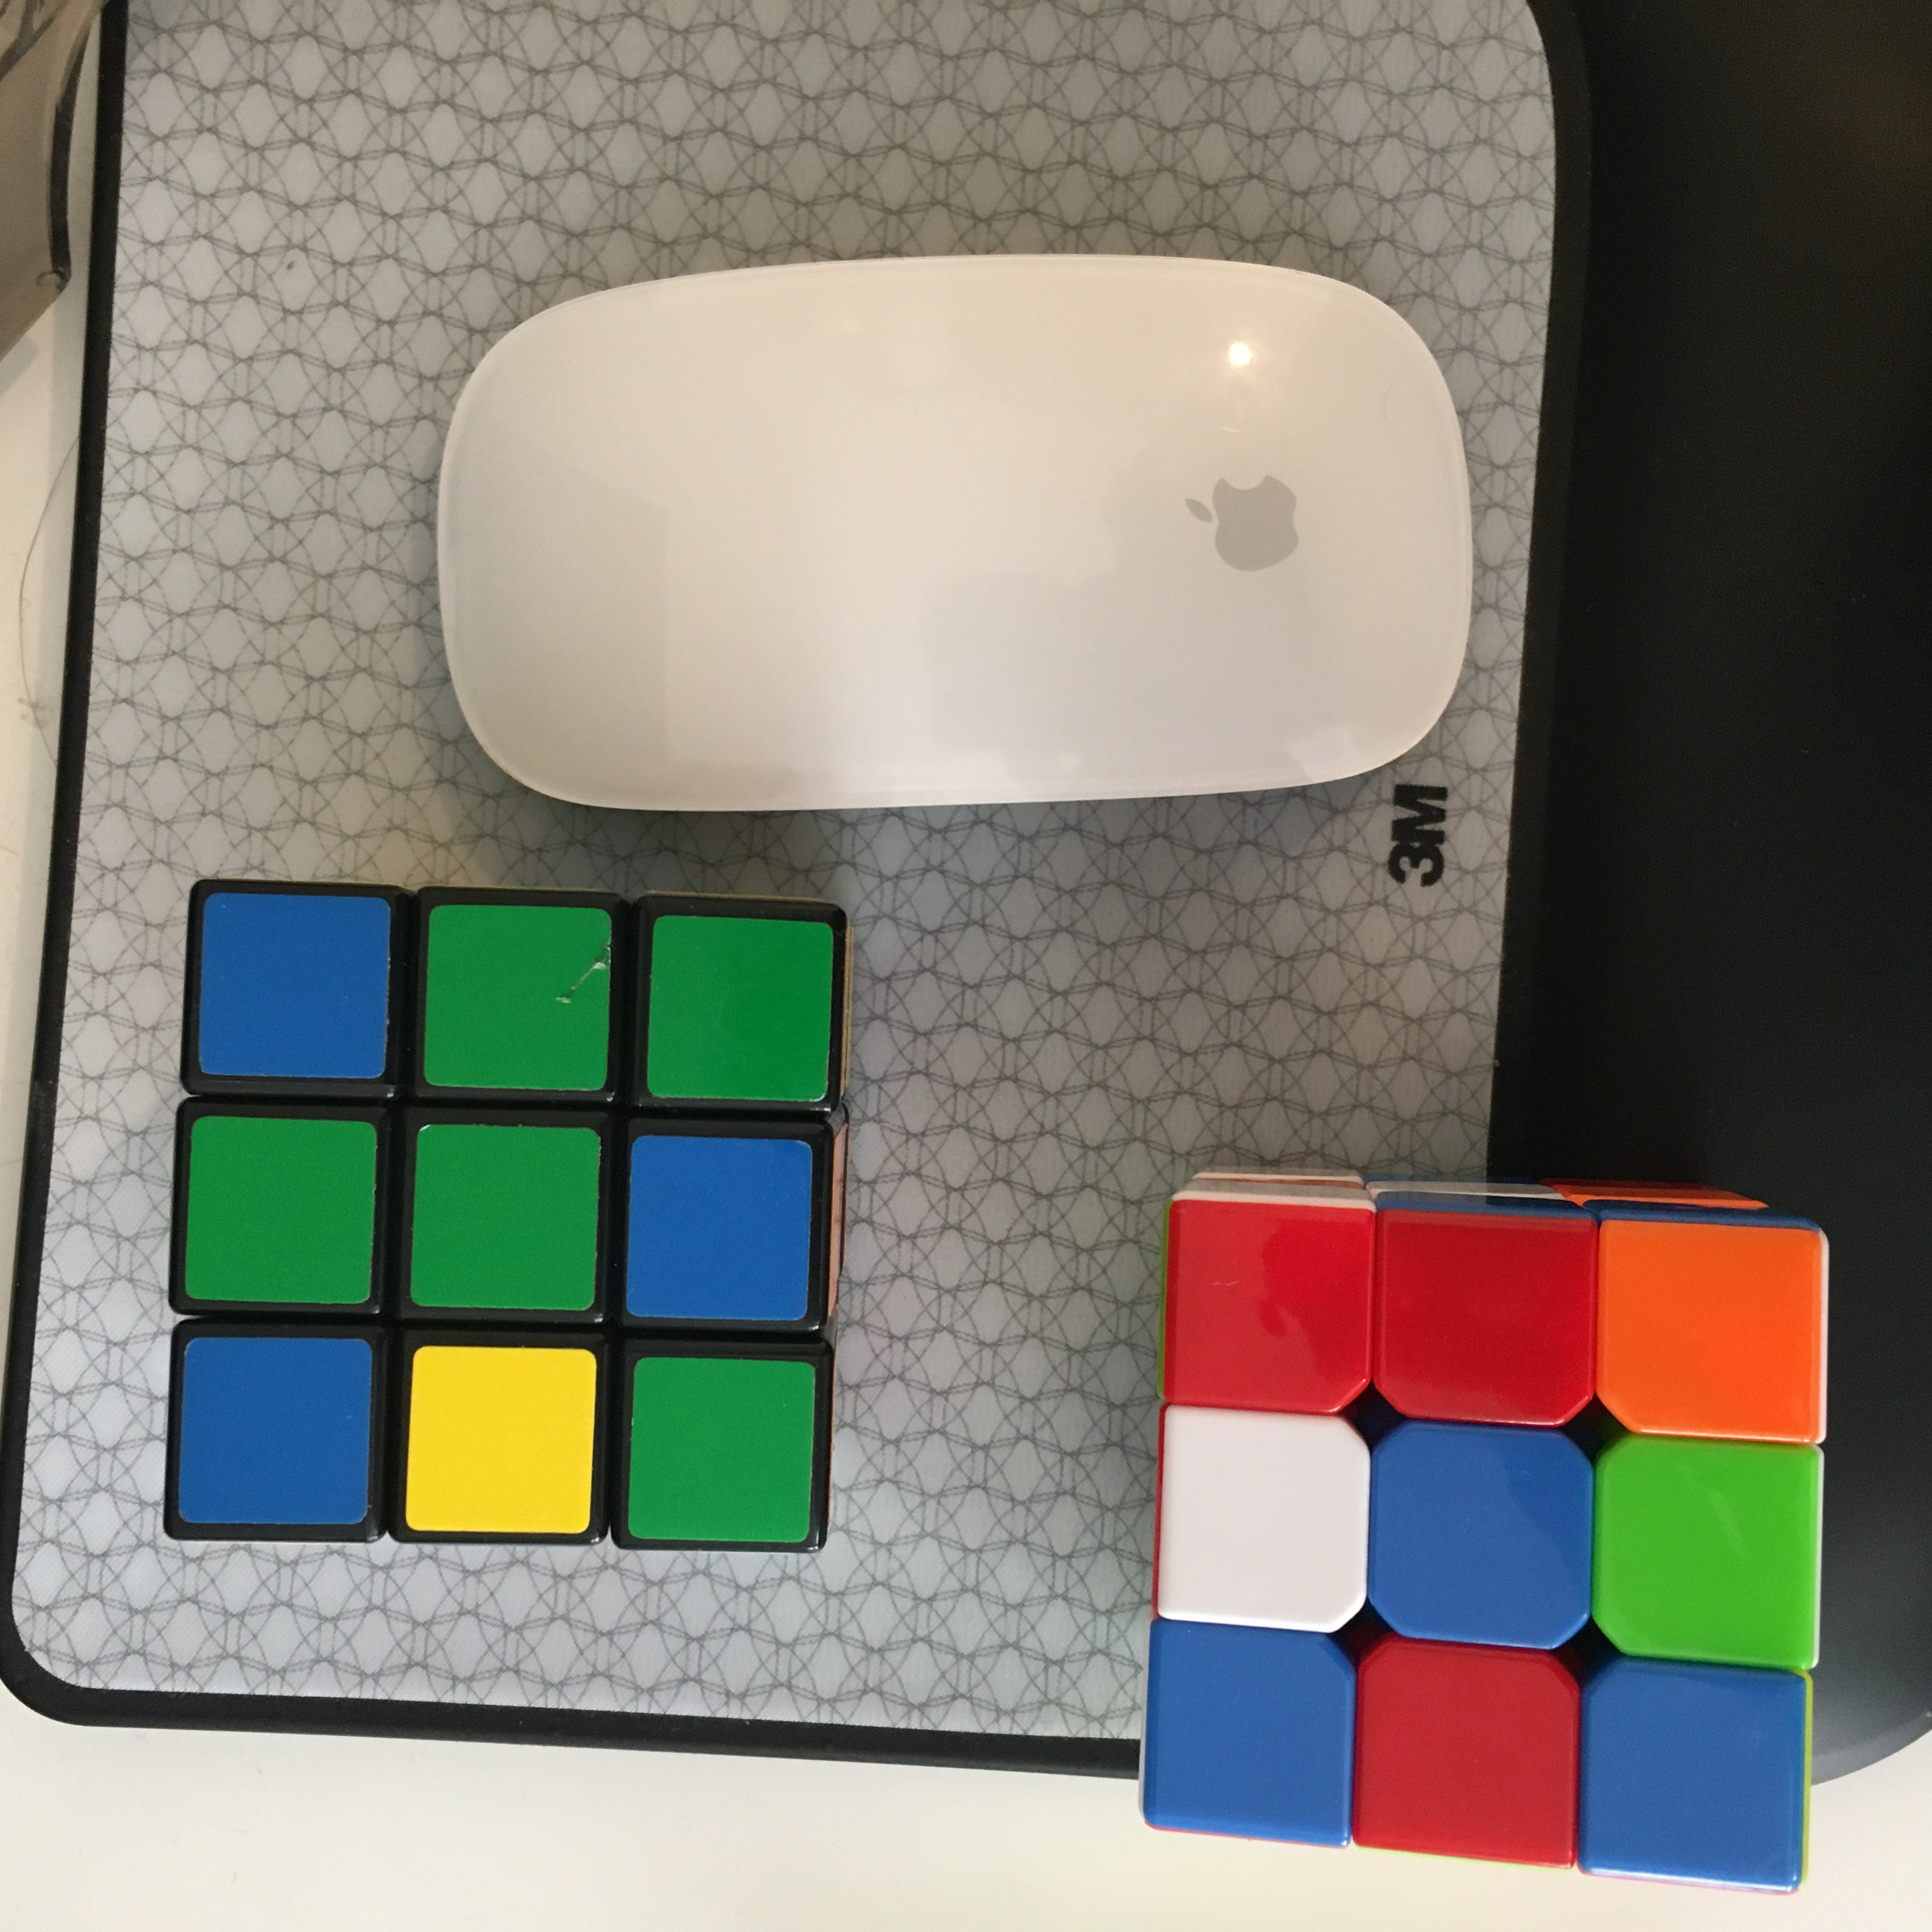face: (1132, 1197, 1837, 1890), (176, 878, 832, 1552)
